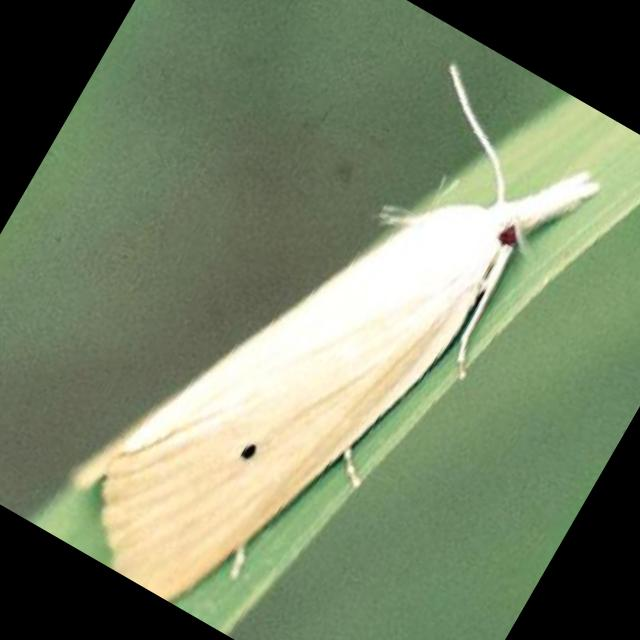stem-borer: (37, 13, 618, 640)
